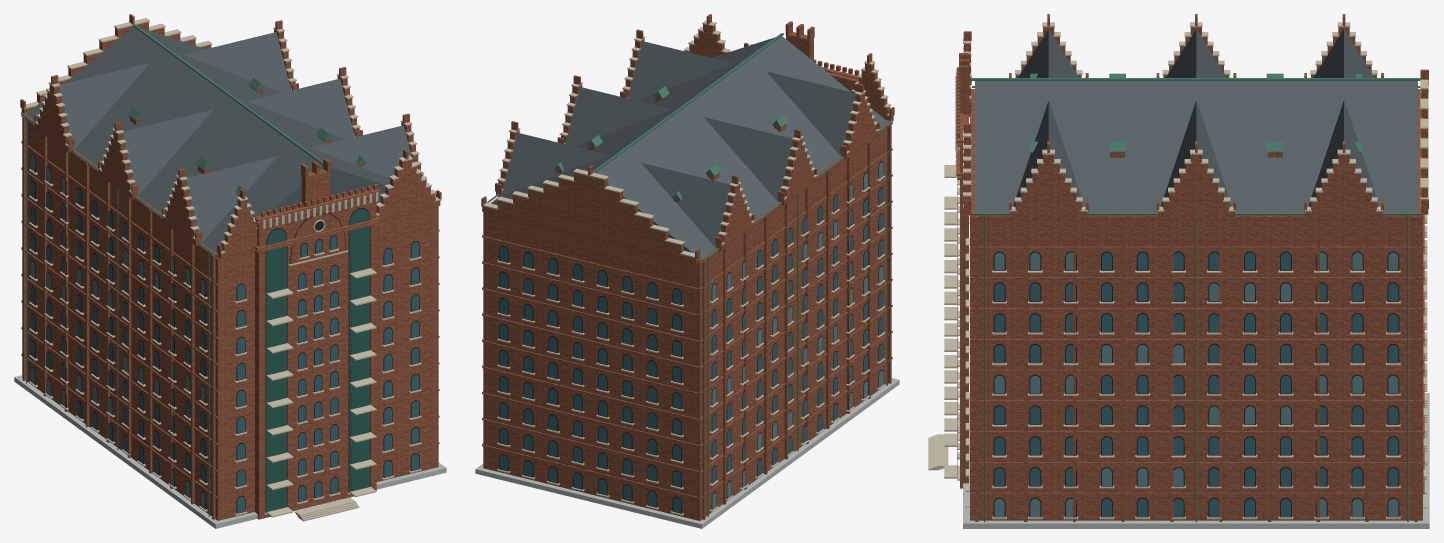
The model's file is kaispeicher-b.glb.
3 renders of one model, left to right at view 1: azimuth 30°, elevation 25°; view 2: azimuth 150°, elevation 25°; view 3: azimuth 270°, elevation 25°, orthographic. The views are drawn at different scales.
Visible parts, largest first — view 1: historic_masonry, roof_structure, cross_gable_roofs, front_projection, front_loading_bays, side_window_-1, pilasters, front_small_windows, stepped_gables, masonry_bands, side_gables_-1, foundation (+8 smaller); view 2: historic_masonry, roof_structure, cross_gable_roofs, rear_windows, side_window_-1, stepped_gables, masonry_bands, pilasters, side_gables_-1, foundation, side_gables_1, gutters (+3 smaller); view 3: historic_masonry, roof_structure, side_window_1, masonry_bands, pilasters, side_gables_1, cross_gable_roofs, foundation, front_loading_bays, front_projection, side_gables_-1, gutters (+8 smaller).
Part boxes in pixels (<box>): historic_masonry: <box>22,112,438,520</box>; roof_structure: <box>26,27,389,253</box>; cross_gable_roofs: <box>59,32,412,241</box>; front_projection: <box>255,188,376,519</box>; front_loading_bays: <box>264,208,376,517</box>; side_window_-1: <box>29,154,207,511</box>; pilasters: <box>22,116,215,519</box>; front_small_windows: <box>234,241,421,515</box>; stepped_gables: <box>21,18,441,259</box>; masonry_bands: <box>21,115,439,498</box>; side_gables_-1: <box>34,75,202,245</box>; foundation: <box>14,375,446,528</box>; historic_masonry: <box>483,120,890,520</box>; roof_structure: <box>492,36,887,258</box>; cross_gable_roofs: <box>501,41,855,246</box>; rear_windows: <box>497,245,683,515</box>; side_window_-1: <box>709,161,885,511</box>; stepped_gables: <box>482,20,893,263</box>; masonry_bands: <box>482,122,892,498</box>; pilasters: <box>702,124,891,519</box>; side_gables_-1: <box>715,83,879,250</box>; foundation: <box>475,378,899,528</box>; side_gables_1: <box>495,29,645,196</box>; gutters: <box>486,120,893,517</box>; historic_masonry: <box>970,89,1422,520</box>; roof_structure: <box>975,81,1417,212</box>; side_window_1: <box>992,251,1400,519</box>; masonry_bands: <box>970,214,1424,494</box>; pilasters: <box>975,215,1417,521</box>; side_gables_1: <box>1009,141,1383,217</box>; cross_gable_roofs: <box>1013,29,1379,207</box>; foundation: <box>963,393,1429,528</box>; front_loading_bays: <box>944,165,959,480</box>; front_projection: <box>960,114,968,488</box>; side_gables_-1: <box>1009,14,1383,77</box>; gutters: <box>972,86,1420,522</box>.
Size of the model in its own units: 31.42 by 44.3 by 50.94.
Materials: 10 (2 with a texture image).
